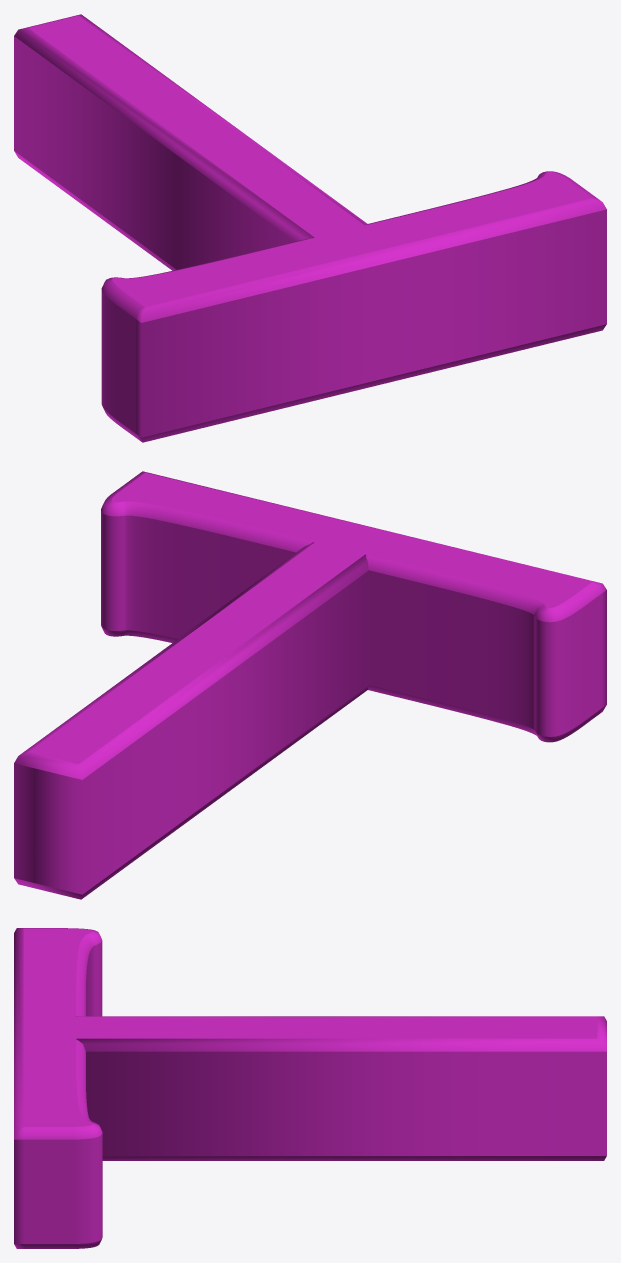
Rendered from Blocky_LetterT.fbx.
The picture shows the model from 3 angles, top to bottom: view 1: azimuth 30°, elevation 25°; view 2: azimuth 150°, elevation 25°; view 3: azimuth 270°, elevation 25°; orthographic projection. The views are drawn at different scales.
Parts seen in each view (by area): view 1: BlockyLetter_T; view 2: BlockyLetter_T; view 3: BlockyLetter_T.
Part boxes in pixels (<box>): BlockyLetter_T: <box>14,14,606,442</box>; BlockyLetter_T: <box>14,471,606,899</box>; BlockyLetter_T: <box>14,928,606,1248</box>.
Size of the model in its own units: 0.5095 by 0.14 by 0.618.
